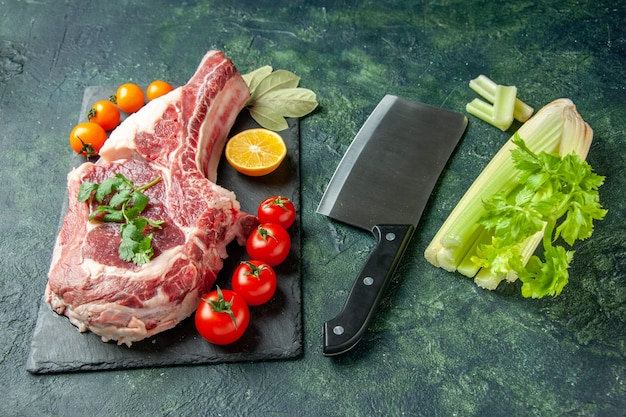knife: (315, 92, 472, 358)
